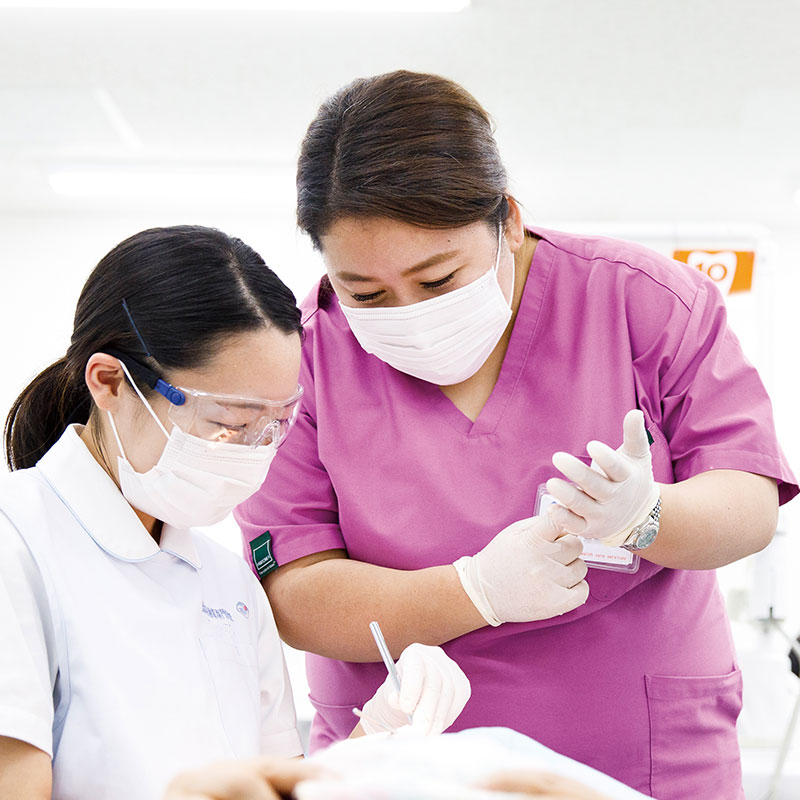mask: (340, 271, 518, 388), (117, 431, 280, 531)
